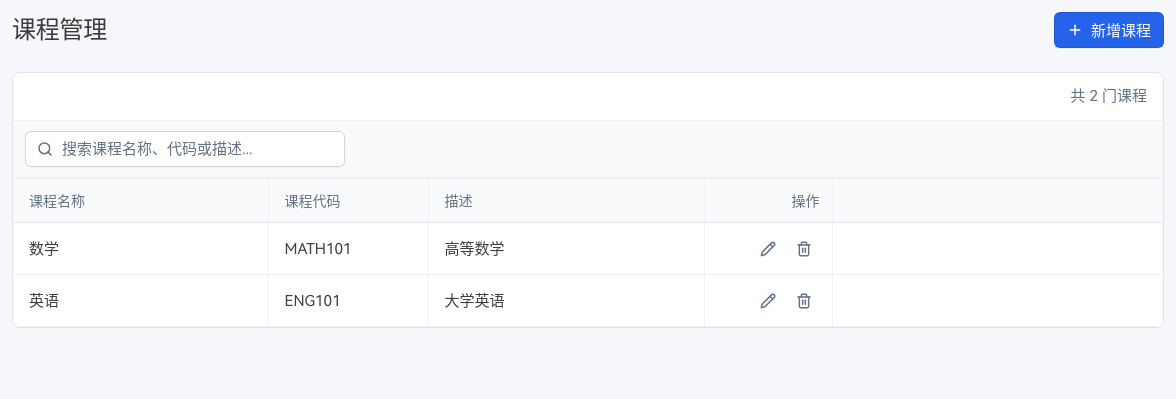
CoursePage › shows empty search result state with clear action
Check: the table is shown, box [13, 178, 1163, 327]
Step 1. Type "不存在" into the search field with placeholder "搜索课程名称、代码或描述..." → (185, 148), box [25, 130, 345, 166]
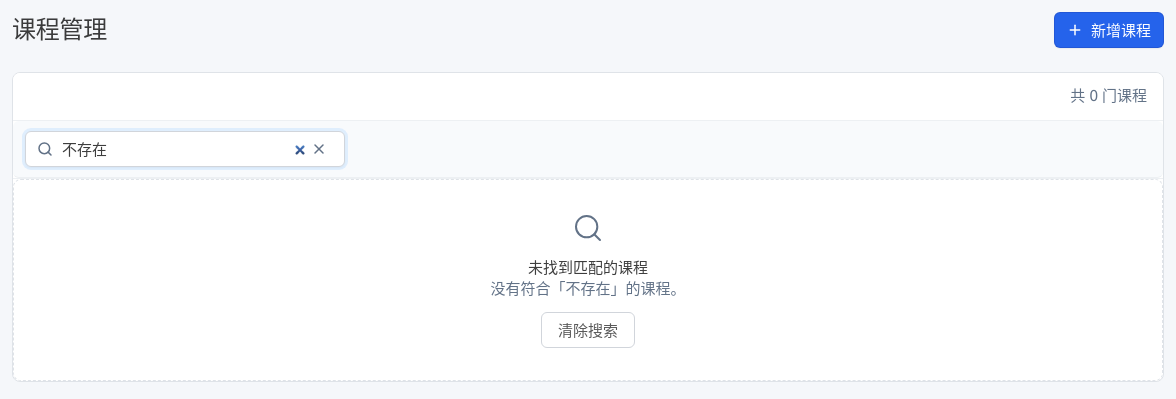
Check: the heading "未找到匹配的课程" is shown, box [528, 256, 648, 276]
Step 2. Click the button named "清除课程搜索" → click(319, 148), box [301, 130, 337, 166]
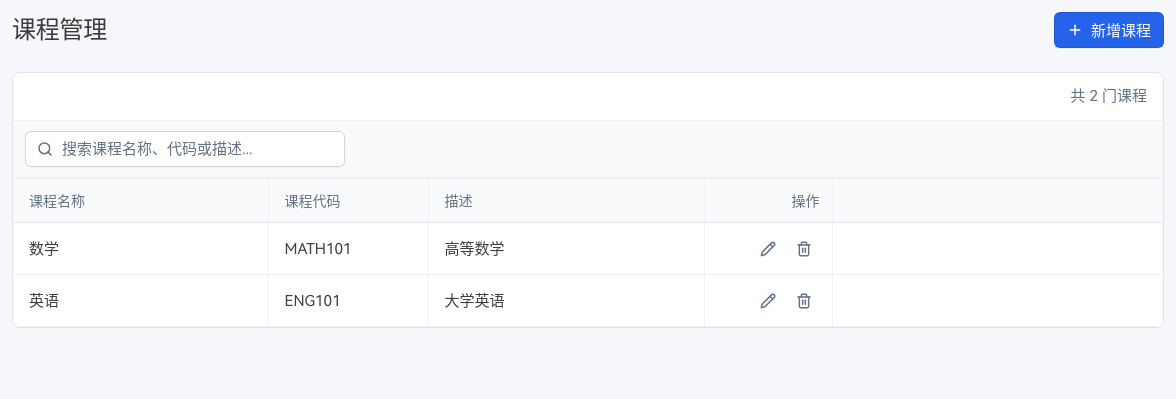
Check: the text "数学" is shown, box [13, 222, 268, 274]
Step 3. Type "不存在" into the search field labelled "搜索课程" → (185, 148), box [25, 130, 345, 166]
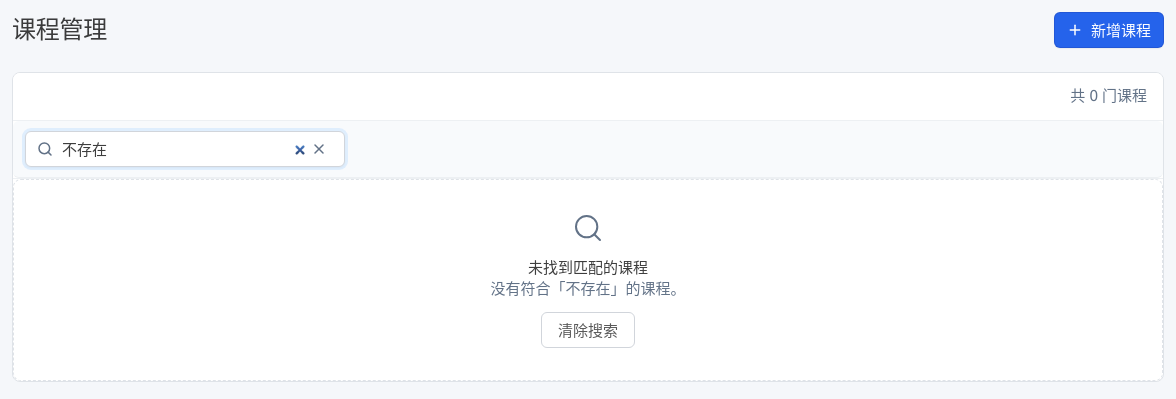
Step 4. Click the button "清除搜索" → click(588, 330), box [541, 312, 635, 348]
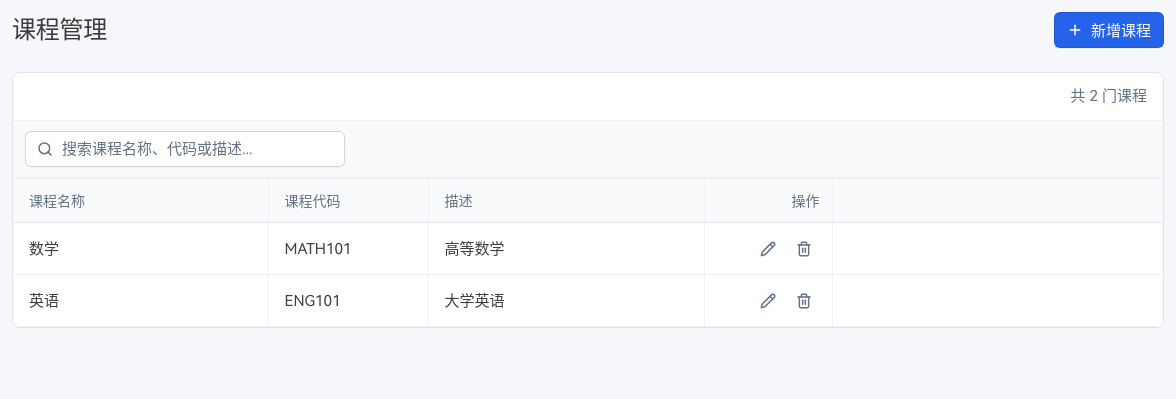
Check: the text "英语" is shown, box [13, 274, 268, 326]
